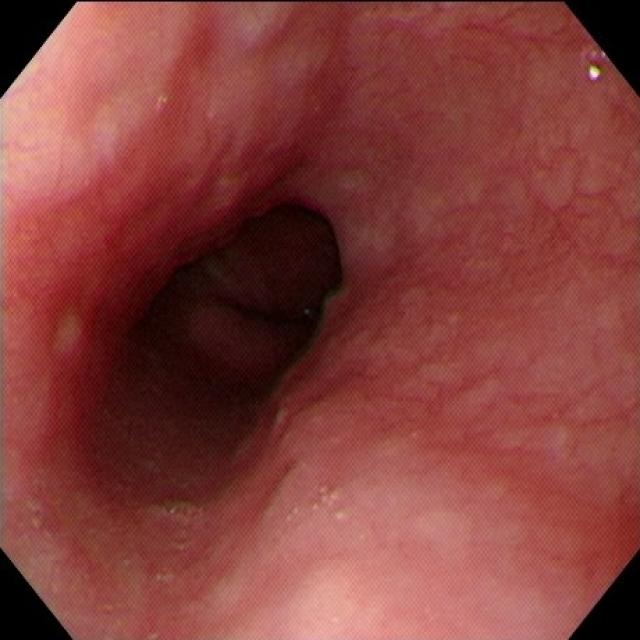E: (142, 203, 345, 415)
U: (585, 48, 609, 87)
